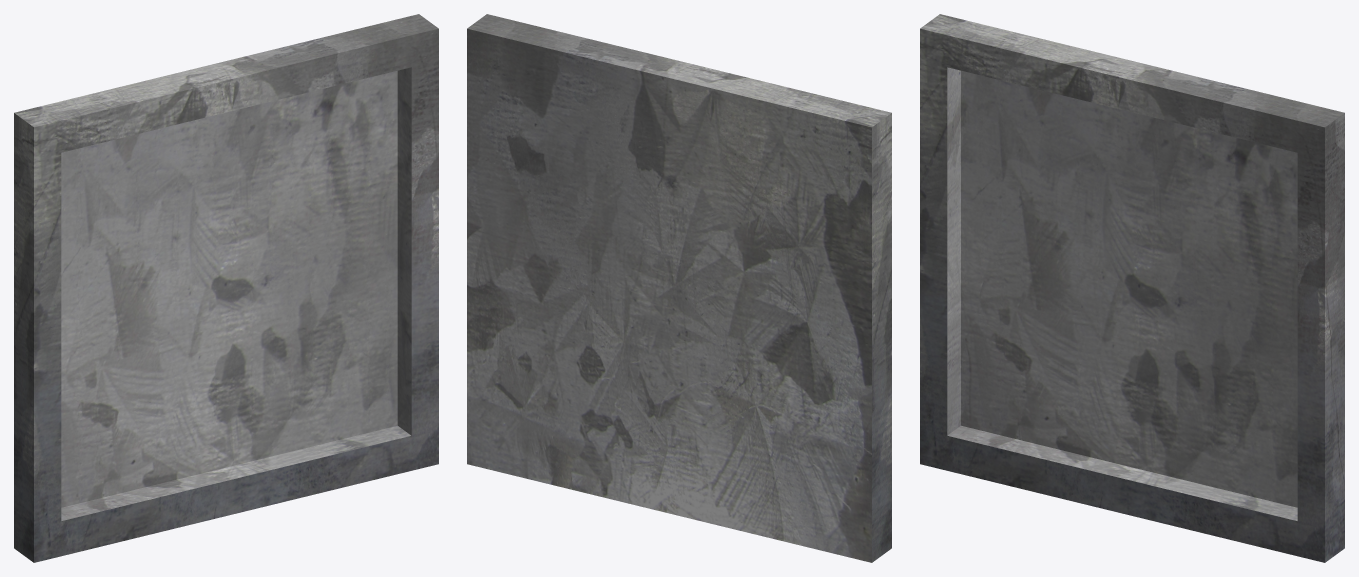
File: AdvertisementBox_003.fbx
3 renders of one model, left to right at view 1: azimuth 30°, elevation 25°; view 2: azimuth 150°, elevation 25°; view 3: azimuth 330°, elevation 25°, orthographic.
Parts seen in each view (by area): view 1: AdvertisementBox_003; view 2: AdvertisementBox_003; view 3: AdvertisementBox_003.
Part boxes in pixels (box(x1,y1,x2,y2)): AdvertisementBox_003: box(14, 14, 438, 562); AdvertisementBox_003: box(467, 14, 891, 562); AdvertisementBox_003: box(920, 14, 1344, 562).
Size of the model in its own units: 1169 by 1201 by 100.
